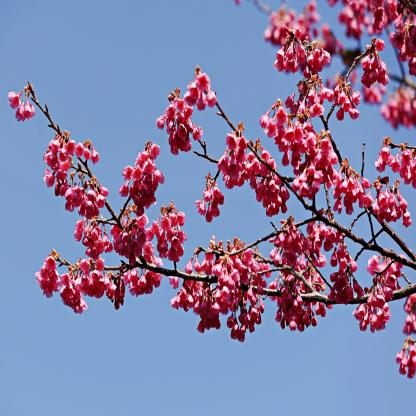KanhiSakura: (6, 0, 416, 380)
